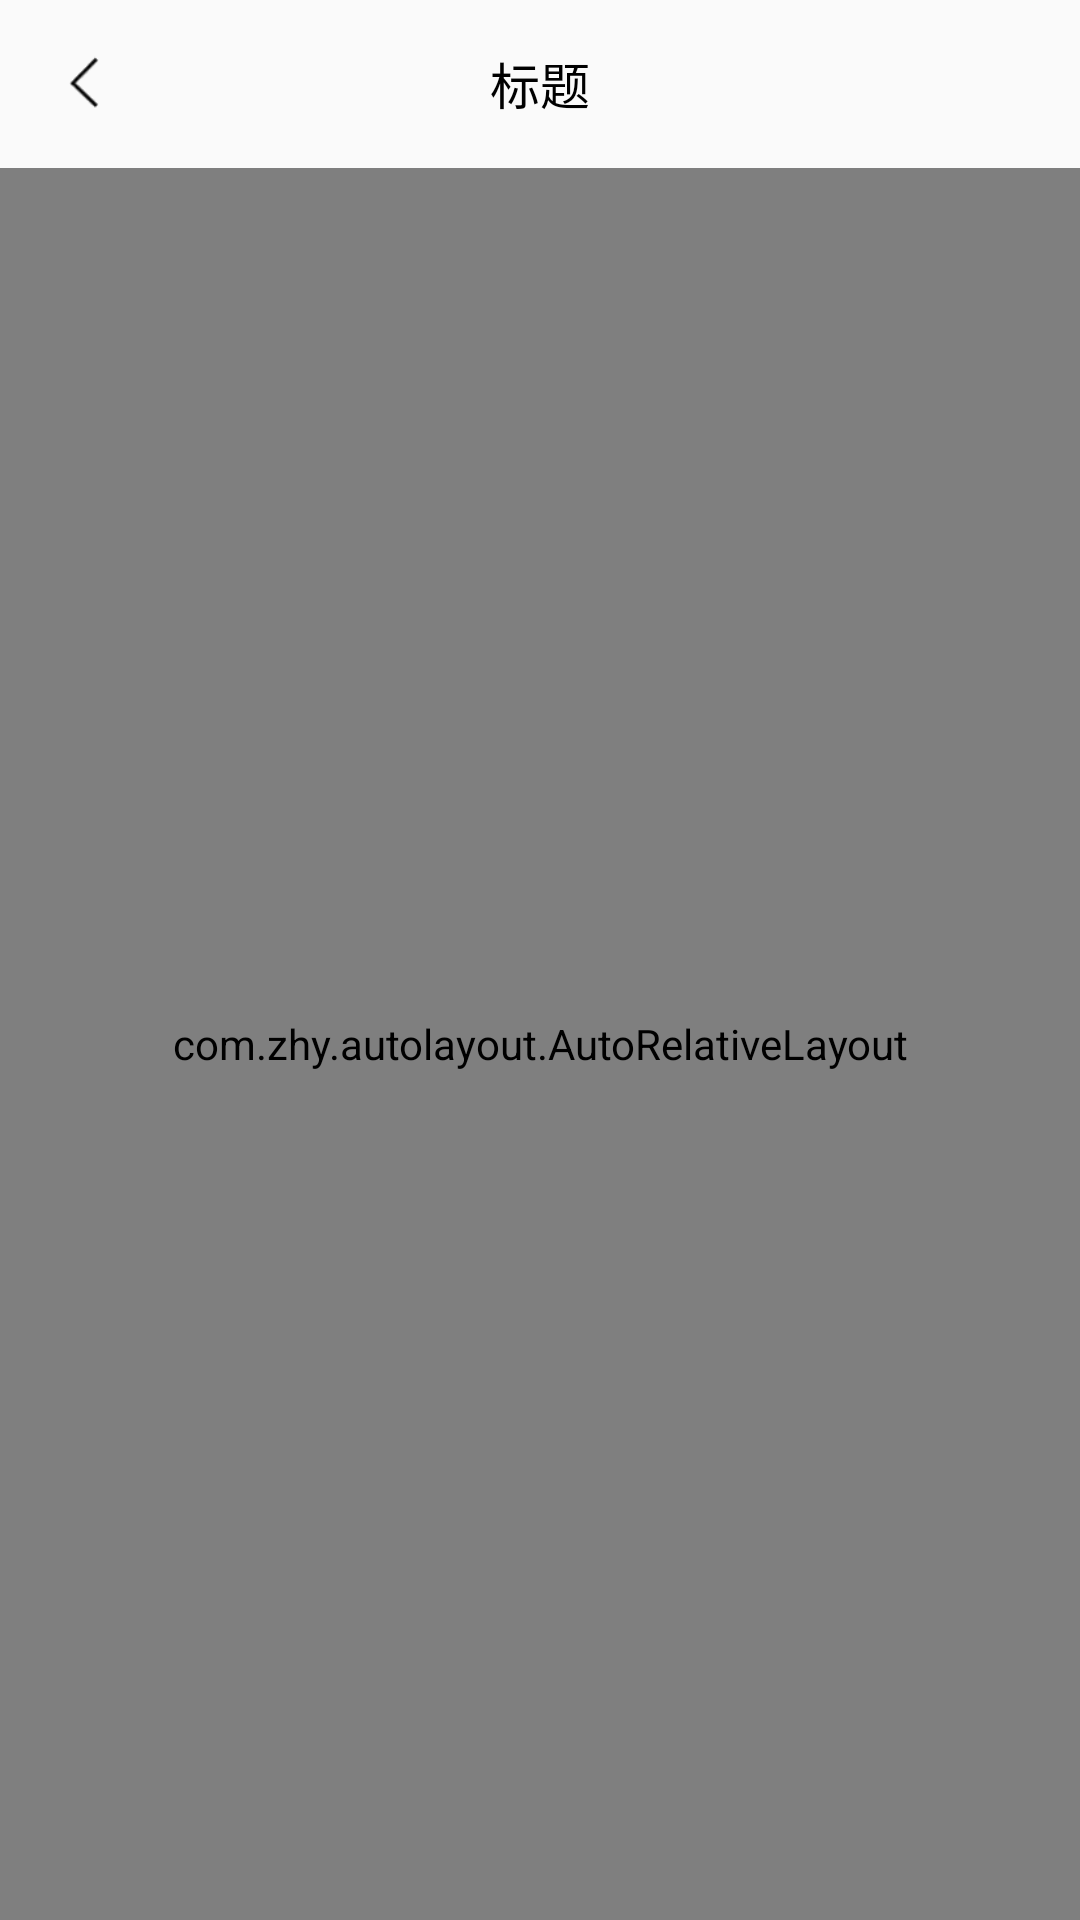

Point at icon controls on the screen. Image size 1080w x 1920h, points as (x,y).
back: (84,82)
